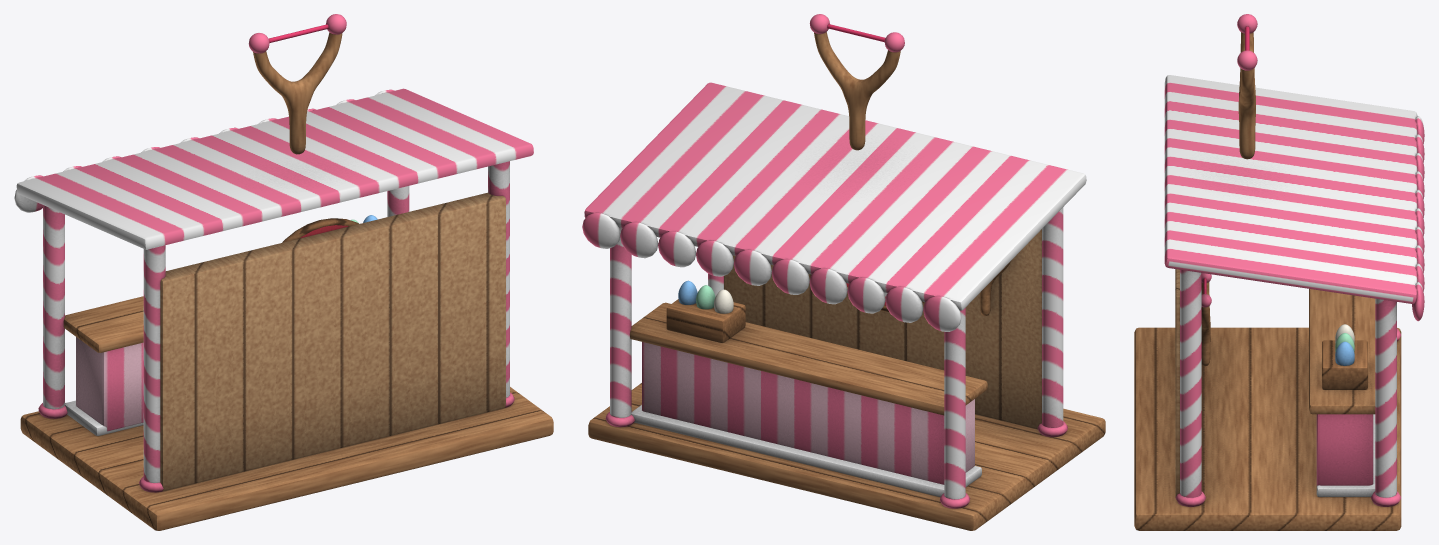
Rendered from Slingshot Shop.fbx.
The picture shows the model from 3 angles, left to right: view 1: azimuth 30°, elevation 25°; view 2: azimuth 150°, elevation 25°; view 3: azimuth 270°, elevation 25°; orthographic projection. The views are drawn at different scales.
Visible parts, largest first — view 1: Slingshot Shop; view 2: Slingshot Shop; view 3: Slingshot Shop.
Part boxes in pixels (<box>): Slingshot Shop: <box>14,14,553,530</box>; Slingshot Shop: <box>582,14,1105,530</box>; Slingshot Shop: <box>1134,14,1424,530</box>.
Size of the model in its own units: 17.4 by 17.42 by 11.3.
1 material, 1 textured.
